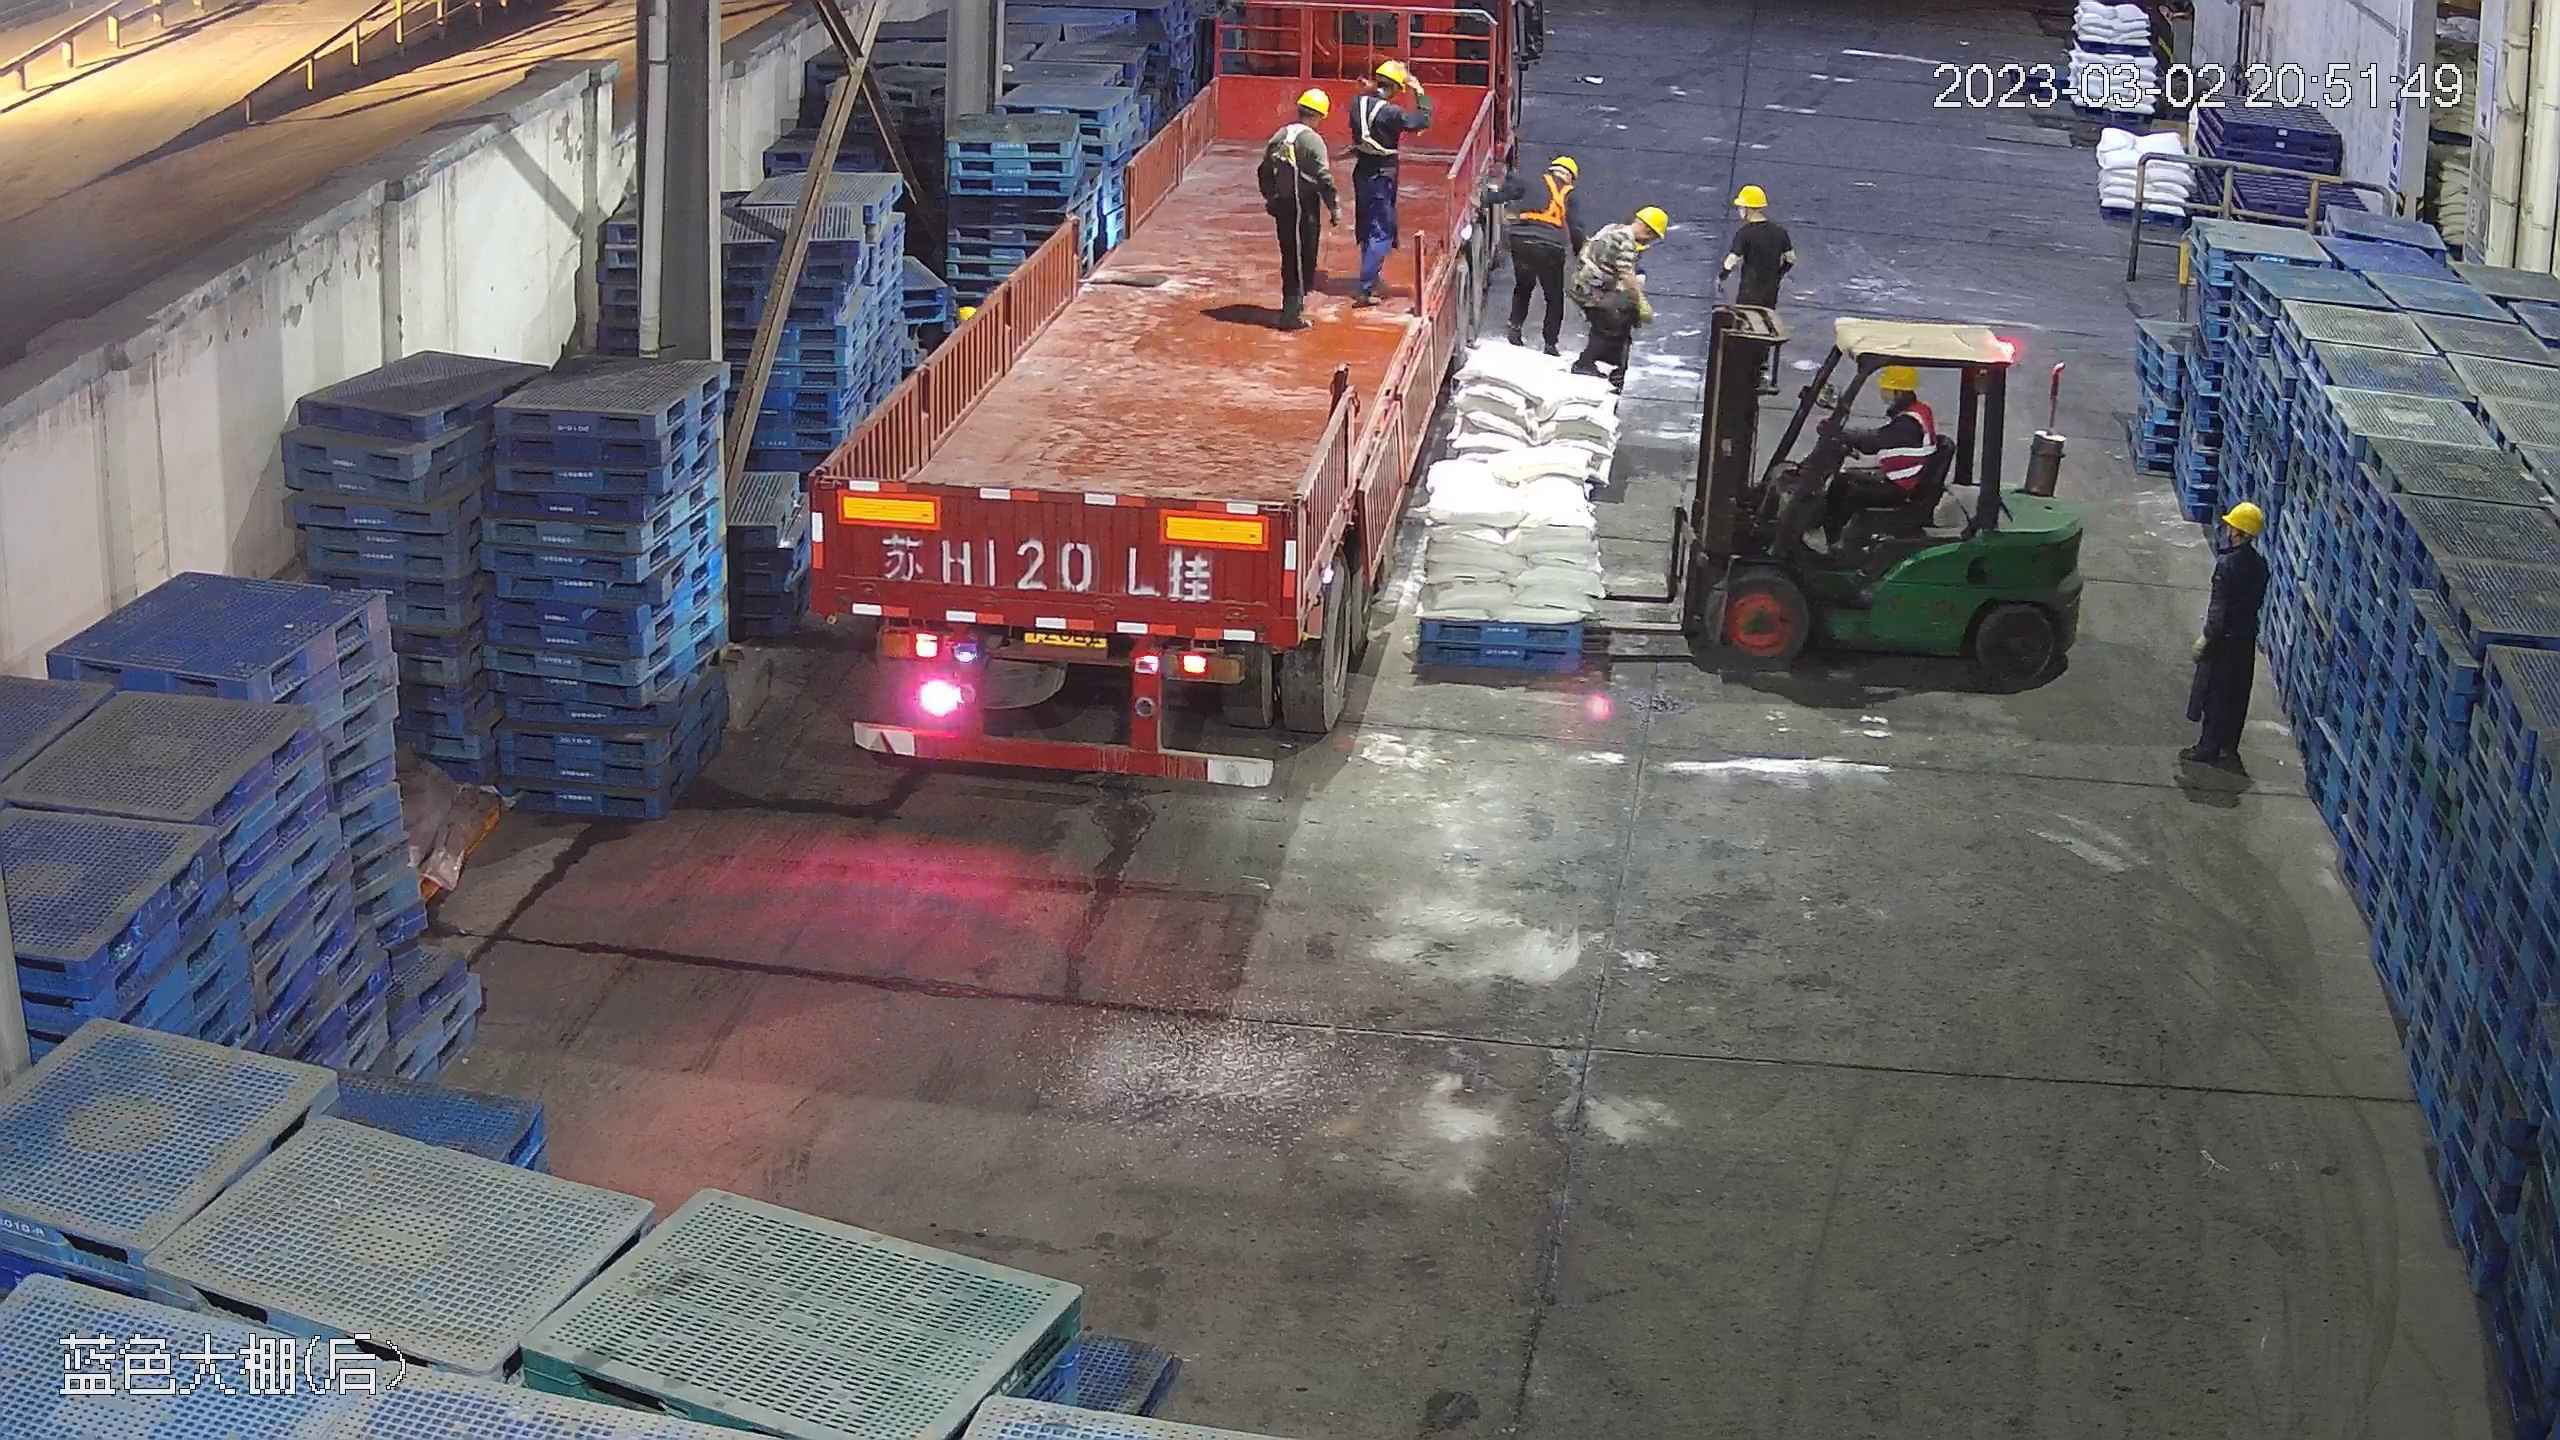belt: (1348, 98, 1405, 154), (1531, 173, 1581, 227), (1258, 126, 1309, 175)
head: (1869, 364, 1939, 445), (1346, 58, 1415, 133), (2209, 498, 2267, 584), (1264, 90, 1331, 164), (1518, 154, 1584, 216), (1729, 184, 1787, 243)
helmet: (2219, 499, 2264, 533), (1875, 363, 1919, 391), (1292, 88, 1329, 115), (1379, 61, 1413, 88), (1638, 205, 1667, 234), (1551, 153, 1581, 178), (1737, 182, 1768, 203)
people: (1799, 361, 1947, 559), (2178, 498, 2268, 775), (1567, 203, 1668, 389), (1493, 153, 1583, 353), (1257, 90, 1333, 318), (1342, 62, 1416, 296), (1721, 187, 1790, 370)
truck: (781, 1, 1518, 791)
